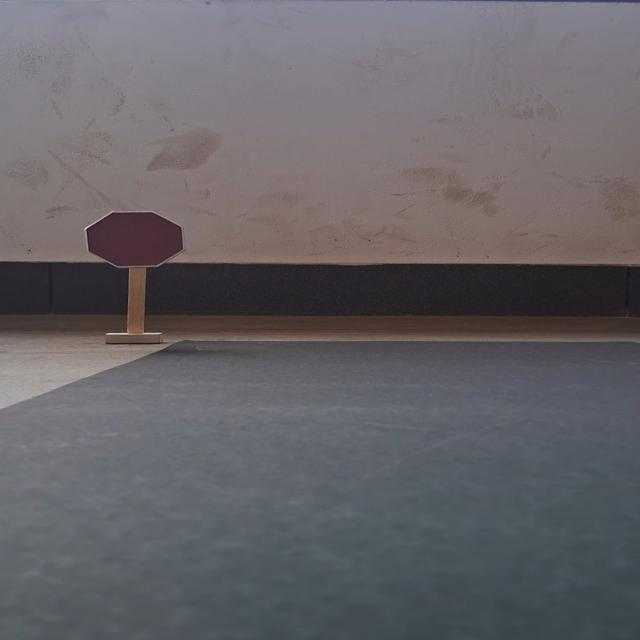Stop: (84, 210, 188, 269)
